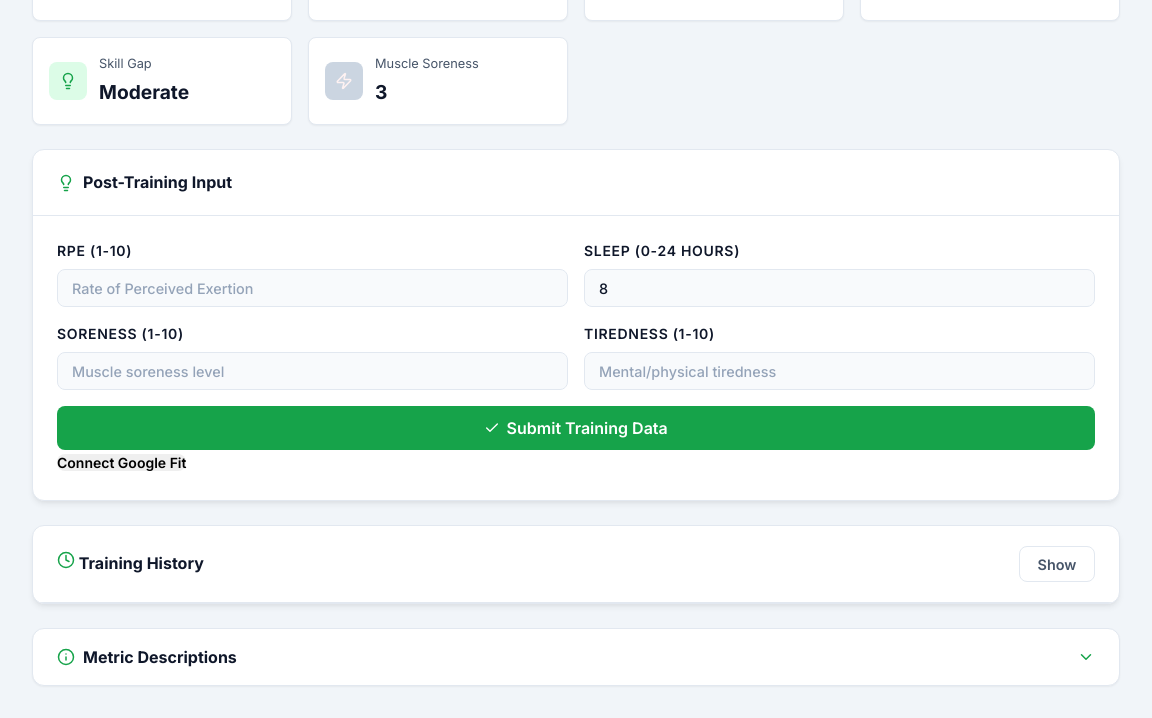
Test: PlayerDashboard › Training History › reveals the table when Show is clicked
(page scrolled)
Click the button "Show": (1057, 564) [1019, 546, 1095, 582]
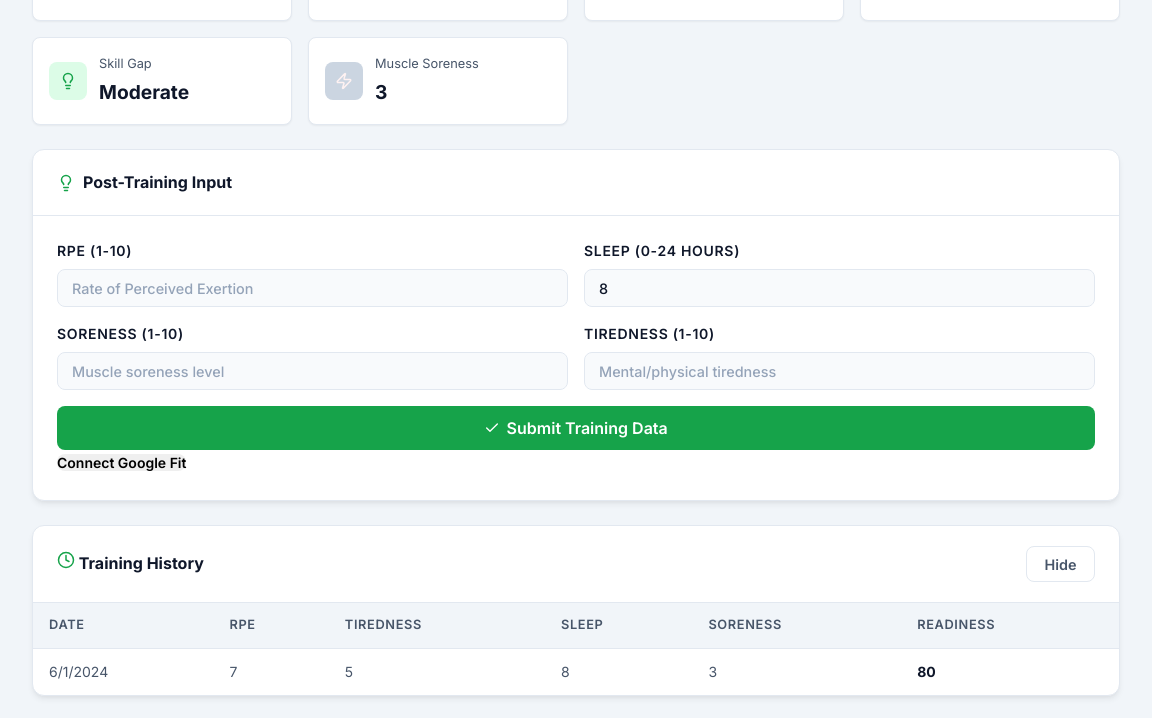
Check: the table is shown, box [33, 604, 1119, 695]
